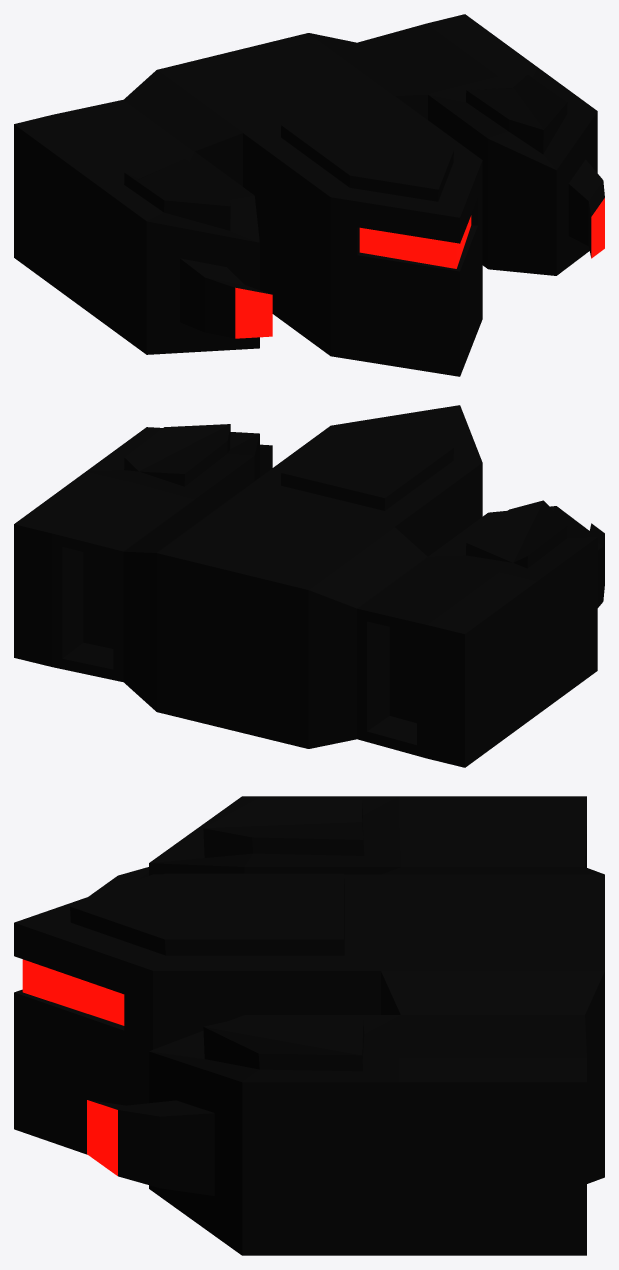
The model's file is spaceship.fbx.
The picture shows the model from 3 angles, top to bottom: view 1: azimuth 30°, elevation 25°; view 2: azimuth 150°, elevation 25°; view 3: azimuth 270°, elevation 25°; orthographic projection. The views are drawn at different scales.
Parts seen in each view (by area): view 1: Cube; view 2: Cube; view 3: Cube.
Boxes of the visible parts, x1,y1,x2,y2 form: Cube: [14, 14, 604, 376]; Cube: [14, 405, 604, 767]; Cube: [14, 796, 604, 1255].
Bounding box in the file's own units: 594 × 216 × 518.
